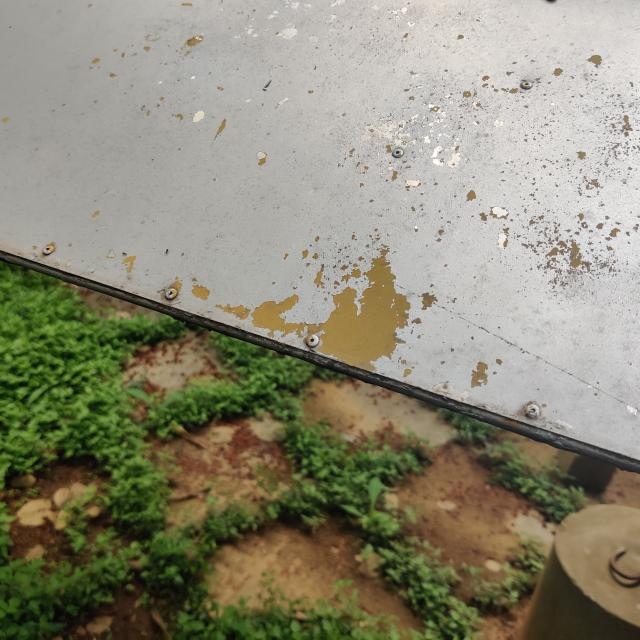paint-off: (218, 228, 424, 384)
